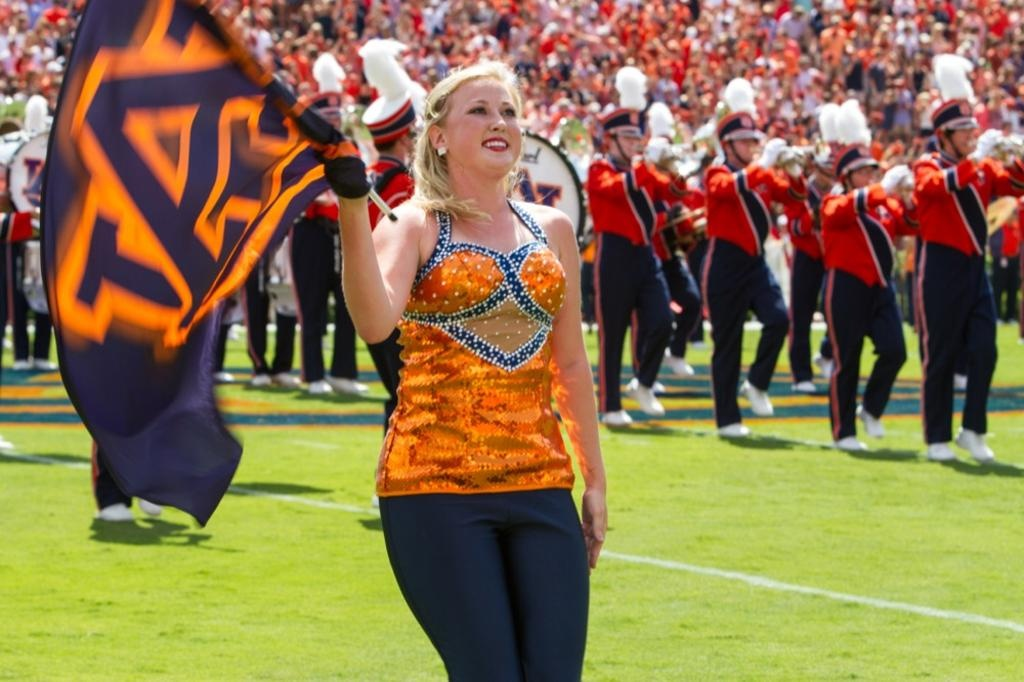human_face: (444, 82, 522, 172), (820, 134, 852, 170), (948, 119, 976, 152), (848, 162, 874, 189), (612, 130, 638, 156), (730, 132, 754, 160), (397, 118, 415, 154), (318, 114, 340, 140)
